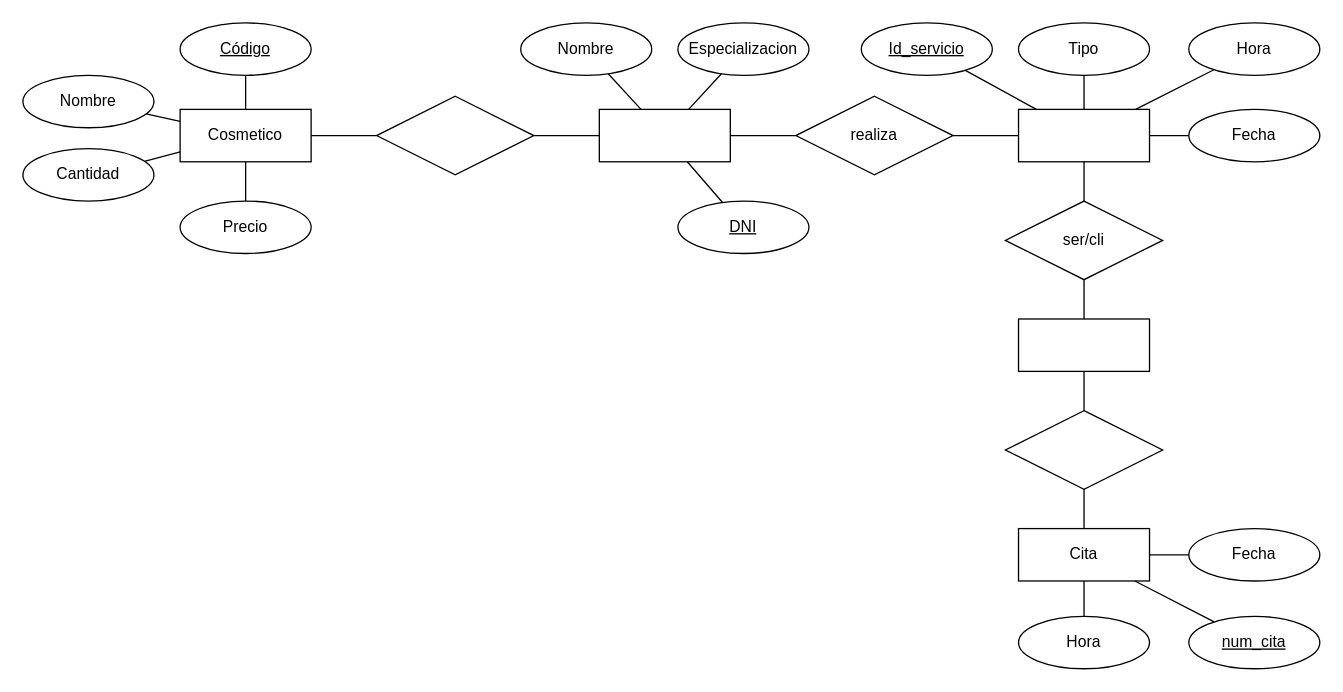
Some shapes in this 1343 by 692 pixel diagram are drawn without their labels. The shapes that lost their labels are listed below. From the top down, each one's centre as x and y in pixels, then its label:
At point (454, 135): "vende".
At point (664, 135): "Empleado".
At point (1083, 135): "servicio".
At point (1083, 344): "Cliente".
At point (1083, 449): "pide".
